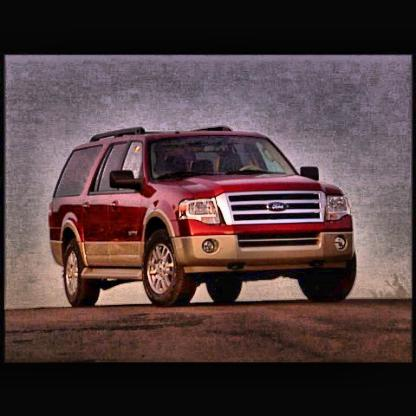Ford Expedition EL SUV 2009: (49, 127, 360, 313)
